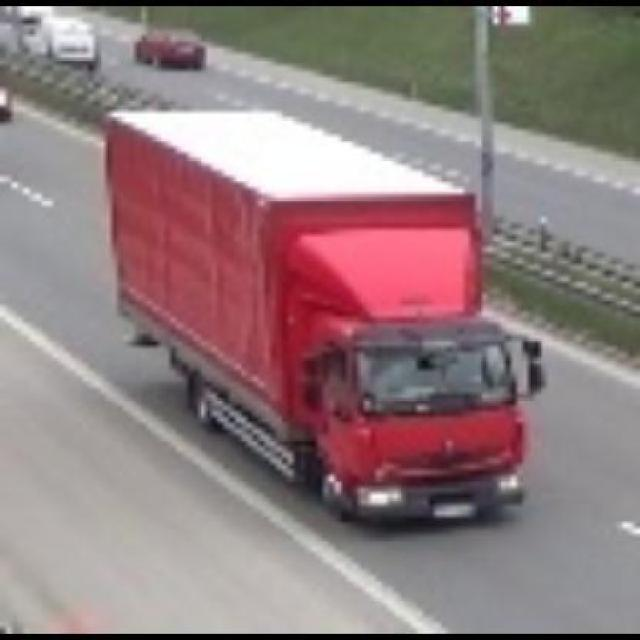truck: (101, 106, 552, 532)
